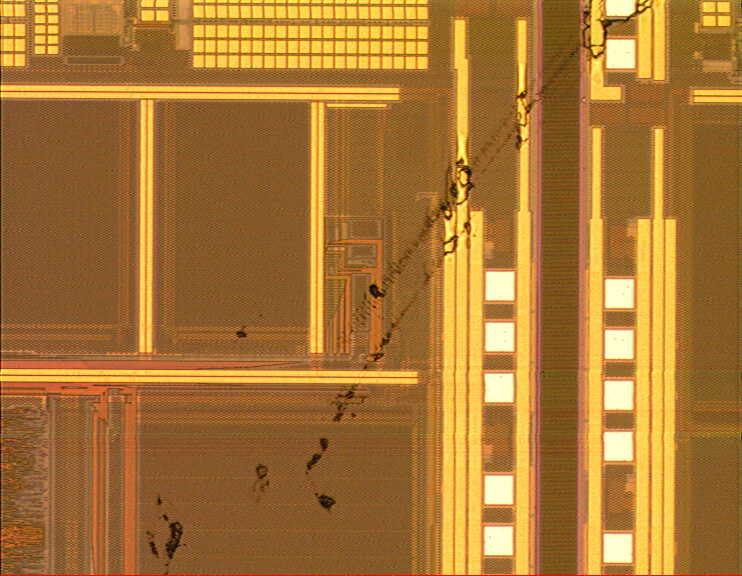SCRATCH: (122, 1, 659, 576)
